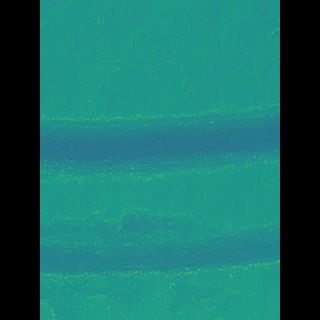Loch: (68, 103, 251, 179), (69, 214, 251, 278)
